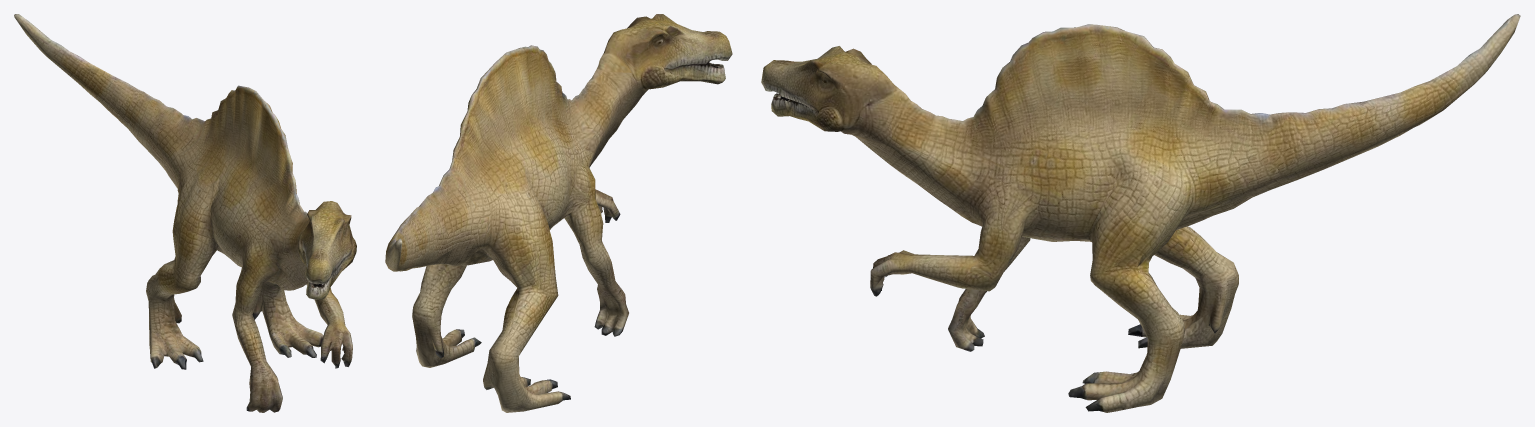
The model's file is spinosaurus.glb.
3 renders of one model, left to right at view 1: azimuth 30°, elevation 25°; view 2: azimuth 150°, elevation 25°; view 3: azimuth 270°, elevation 25°, orthographic. The views are drawn at different scales.
Visible parts, largest first — view 1: model; view 2: model; view 3: model.
Part boxes in pixels (x1,y1,x2,y2): model: (14, 14, 356, 412); model: (385, 14, 732, 412); model: (761, 14, 1520, 412).
Size of the model in its own units: 0.0771 by 0.1333 by 0.2641.
1 material, 1 textured.
